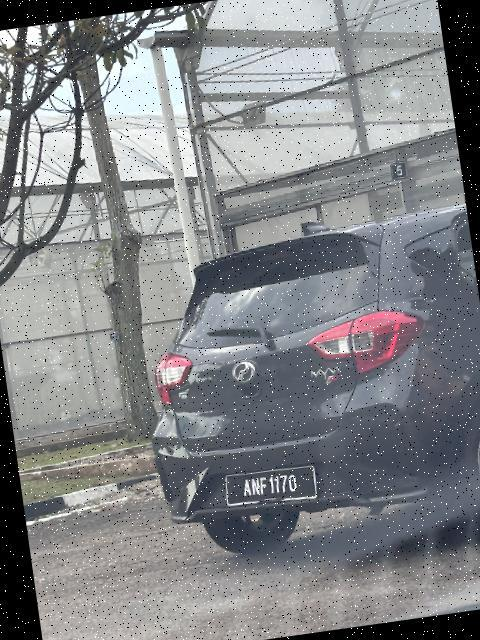ANF1170: (223, 463, 322, 516)
License_Plate: (223, 463, 322, 516)
car: (120, 214, 480, 572)
